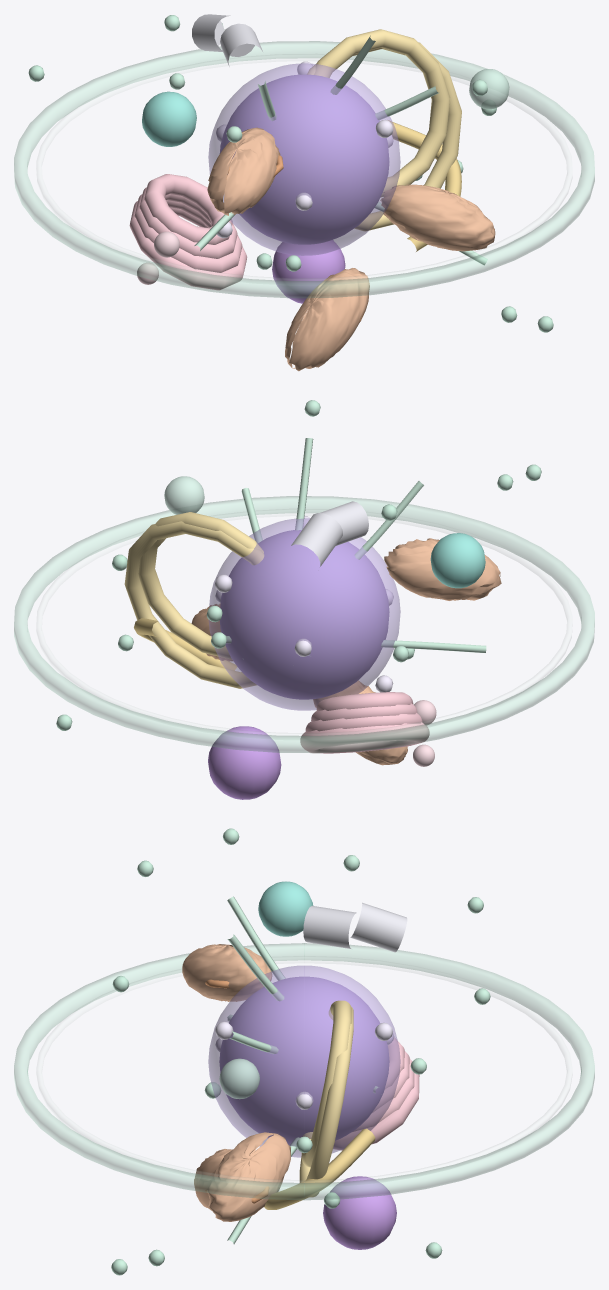
Rendered from cell.glb.
The picture shows the model from 3 angles, top to bottom: view 1: azimuth 30°, elevation 25°; view 2: azimuth 150°, elevation 25°; view 3: azimuth 270°, elevation 25°; orthographic projection.
Visible parts, largest first — view 1: nucleus, cell_membrane, nucleoplasm, cytoplasm, mitochondrion_3, mitochondrion_2, rough_endoplasmic_reticulum, mitochondrion_1, lysosome, golgi_cisterna_4, golgi_cisterna_1, peroxisome (+10 smaller); view 2: nucleus, cell_membrane, nucleoplasm, cytoplasm, rough_endoplasmic_reticulum_2, lysosome, rough_endoplasmic_reticulum, mitochondrion_1, golgi_cisterna_1, peroxisome, centriole_1, golgi_cisterna_4 (+10 smaller); view 3: nucleus, cell_membrane, nucleoplasm, cytoplasm, mitochondrion_2, lysosome, mitochondrion_1, rough_endoplasmic_reticulum_2, peroxisome, smooth_endoplasmic_reticulum, rough_endoplasmic_reticulum, centriole_1 (+8 smaller).
Part boxes in pixels (box(x1,y1,x2,y2)): nucleus: box(208, 63, 400, 255); cell_membrane: box(14, 41, 594, 297); nucleoplasm: box(219, 74, 389, 244); cytoplasm: box(37, 54, 571, 280); mitochondrion_3: box(285, 268, 369, 371); mitochondrion_2: box(380, 184, 495, 251); rough_endoplasmic_reticulum: box(314, 29, 449, 197); mitochondrion_1: box(207, 127, 280, 215); lysosome: box(272, 240, 345, 303); golgi_cisterna_4: box(144, 174, 232, 244); golgi_cisterna_1: box(129, 201, 247, 290); peroxisome: box(142, 91, 196, 146); nucleus: box(208, 518, 400, 710); cell_membrane: box(14, 496, 594, 752); nucleoplasm: box(219, 530, 389, 699); cytoplasm: box(37, 509, 571, 735); rough_endoplasmic_reticulum_2: box(124, 521, 264, 688); lysosome: box(208, 726, 281, 799); rough_endoplasmic_reticulum: box(138, 512, 263, 659); mitochondrion_1: box(384, 538, 501, 600); golgi_cisterna_1: box(300, 722, 429, 753); peroxisome: box(430, 533, 485, 588); centriole_1: box(291, 513, 342, 566); golgi_cisterna_4: box(316, 692, 413, 711); nucleus: box(208, 965, 400, 1157); cell_membrane: box(14, 943, 594, 1200); nucleoplasm: box(219, 976, 389, 1145); cytoplasm: box(37, 956, 571, 1182); mitochondrion_2: box(207, 1132, 290, 1221); lysosome: box(323, 1176, 396, 1249); mitochondrion_1: box(182, 944, 272, 1001); rough_endoplasmic_reticulum_2: box(299, 1006, 353, 1197); peroxisome: box(258, 881, 313, 936); smooth_endoplasmic_reticulum: box(264, 1128, 375, 1209); rough_endoplasmic_reticulum: box(301, 1000, 351, 1167); centriole_1: box(350, 902, 407, 952).
Size of the model in its own units: 1.3 by 0.7947 by 1.3.
